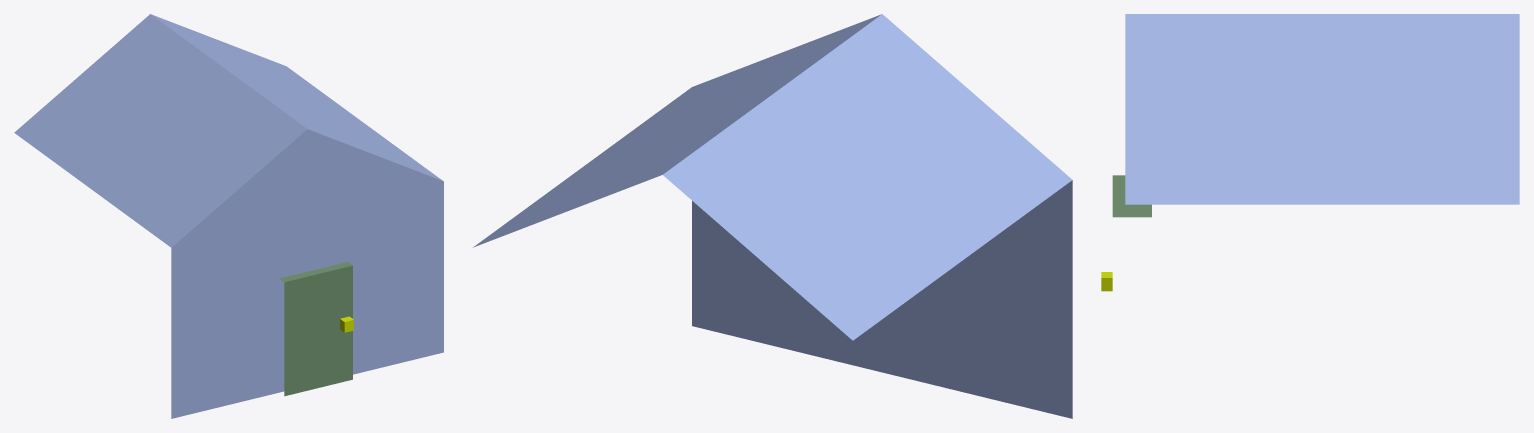
File: Science_Factory_Normal_V2.fbx
3 views of the same model, side by side, from view 1: azimuth 30°, elevation 25°; view 2: azimuth 150°, elevation 25°; view 3: azimuth 270°, elevation 25° (orthographic). The views are drawn at different scales.
Visible parts, largest first — view 1: base.001, base; view 2: base.001; view 3: base.001, base.
Part boxes in pixels (left/top/right/bottom): base.001: left=14, top=14, right=443, bottom=418; base: left=279, top=262, right=352, bottom=396; base.001: left=473, top=14, right=1072, bottom=418; base.001: left=1125, top=14, right=1519, bottom=204; base: left=1112, top=175, right=1151, bottom=217.
Size of the model in its own units: 1000 by 900 by 1061.
